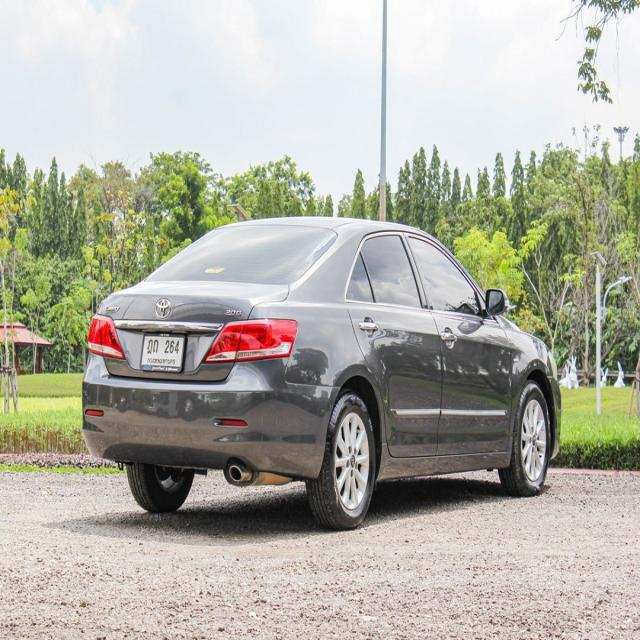license_plate: (127, 326, 196, 383)
